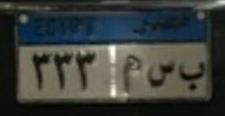3: (75, 49, 98, 91), (53, 50, 74, 93), (32, 48, 51, 94)
baa: (178, 55, 206, 92)
meem: (120, 51, 142, 93)
seen: (145, 57, 176, 91)
